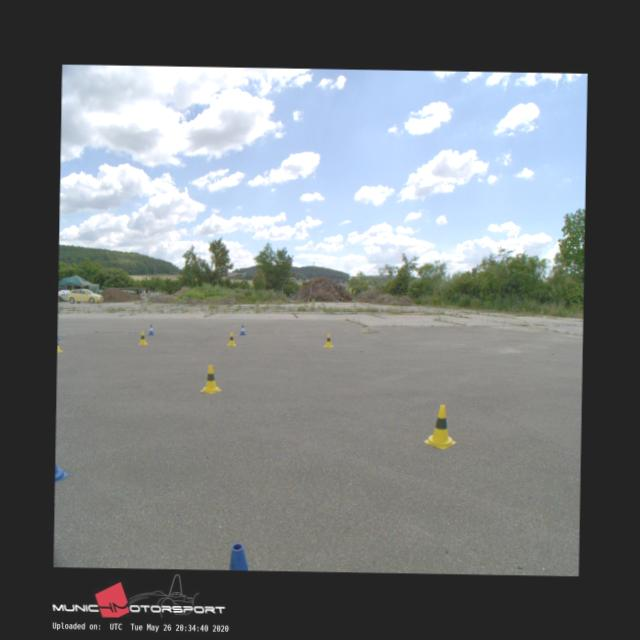blue_cone: (148, 324, 154, 336), (239, 324, 246, 334)
yellow_cone: (424, 403, 456, 448), (199, 363, 221, 392), (322, 332, 333, 346), (227, 330, 236, 346), (138, 330, 146, 344)
